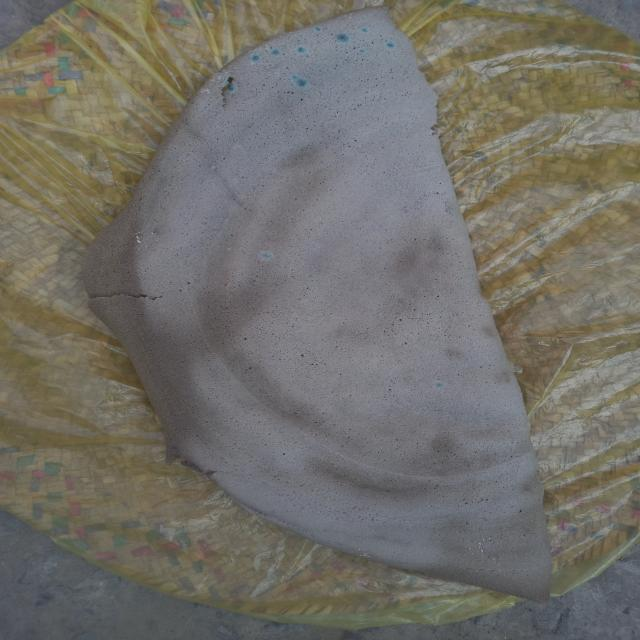injera_mold: (208, 72, 223, 84), (336, 33, 352, 44), (258, 250, 274, 261), (295, 79, 308, 88), (250, 54, 262, 63), (385, 41, 396, 50), (228, 82, 237, 92), (198, 88, 211, 94), (359, 552, 372, 558), (478, 543, 485, 554), (297, 47, 307, 54), (433, 382, 444, 388), (271, 49, 280, 56), (313, 26, 323, 32), (359, 28, 368, 34), (136, 235, 141, 243), (292, 74, 298, 80), (359, 49, 366, 53), (358, 548, 366, 551), (492, 558, 498, 562), (276, 72, 280, 76), (137, 248, 141, 251), (151, 232, 154, 235), (145, 245, 148, 248), (156, 239, 158, 242), (468, 548, 471, 550), (471, 553, 474, 555), (482, 538, 485, 540), (138, 232, 140, 234), (488, 538, 491, 539)
